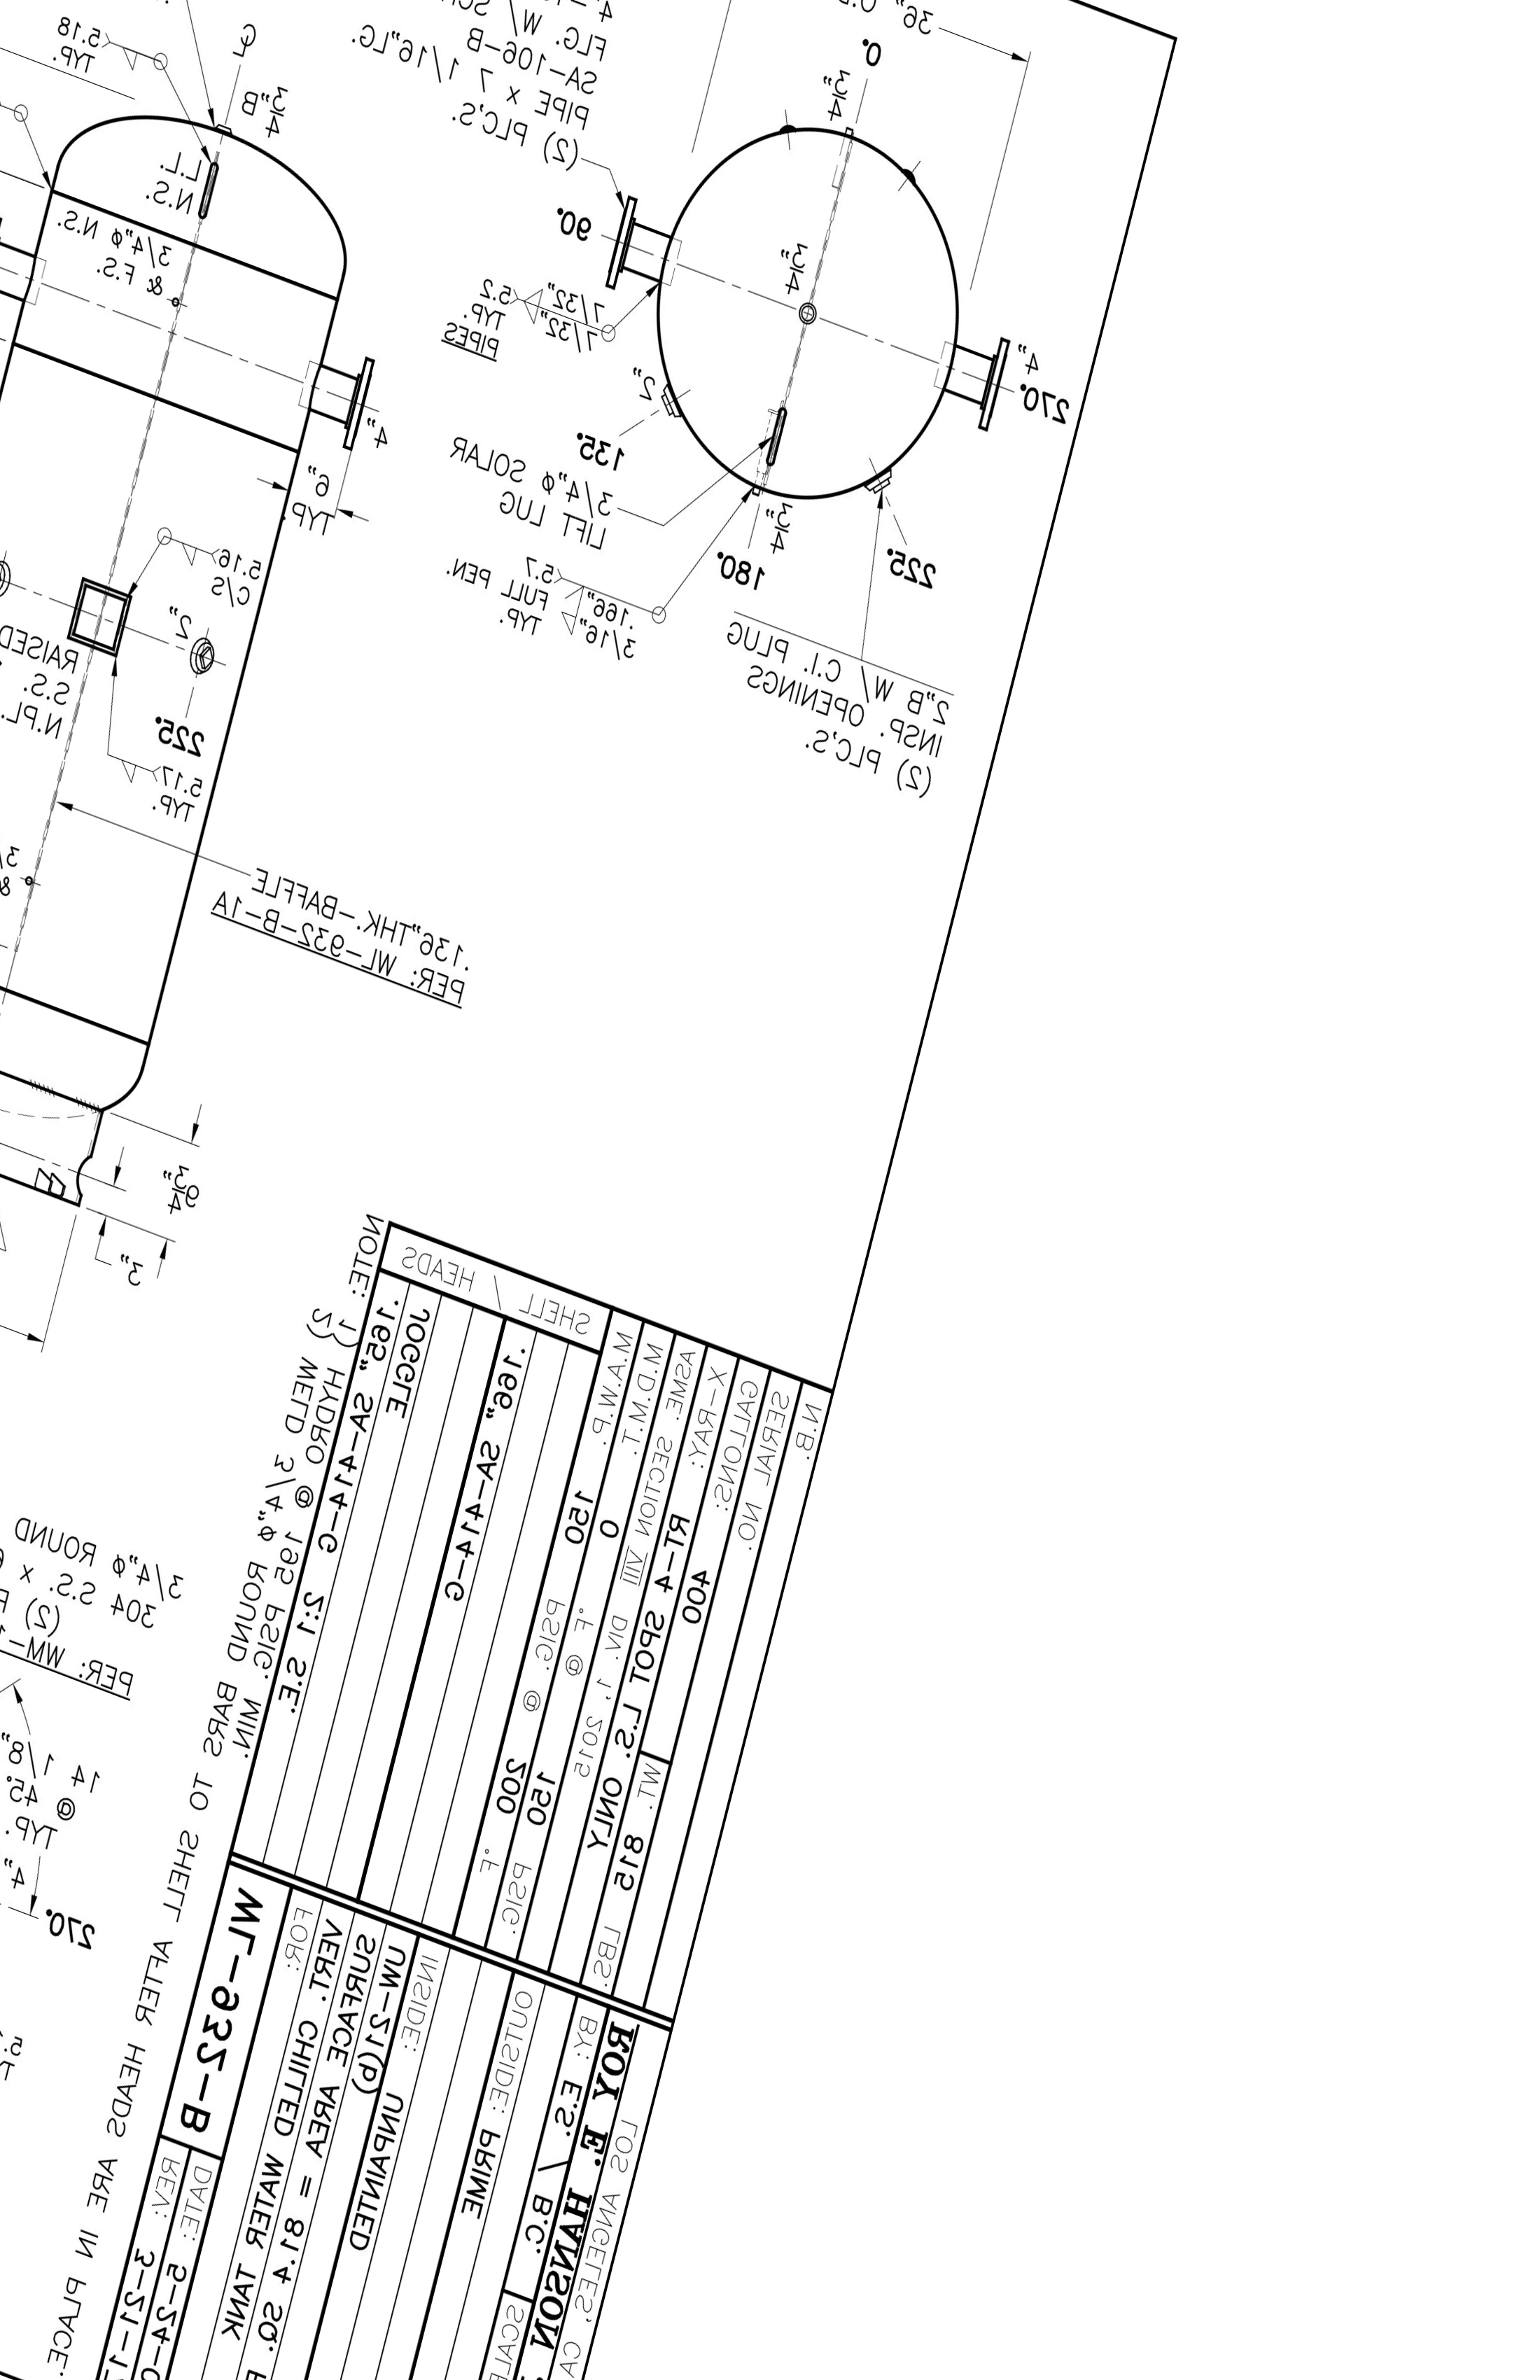Nozzle: (293, 321, 418, 472), (926, 312, 1039, 468), (598, 165, 702, 309), (0, 220, 52, 352)
